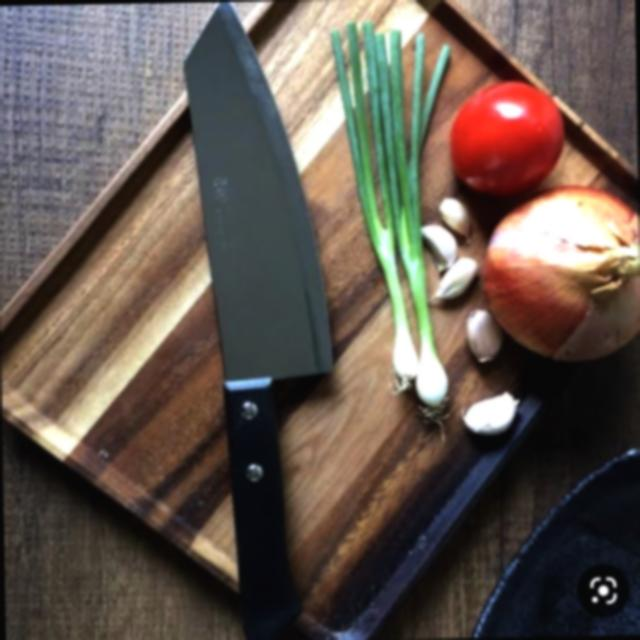knife: (176, 0, 359, 640)
